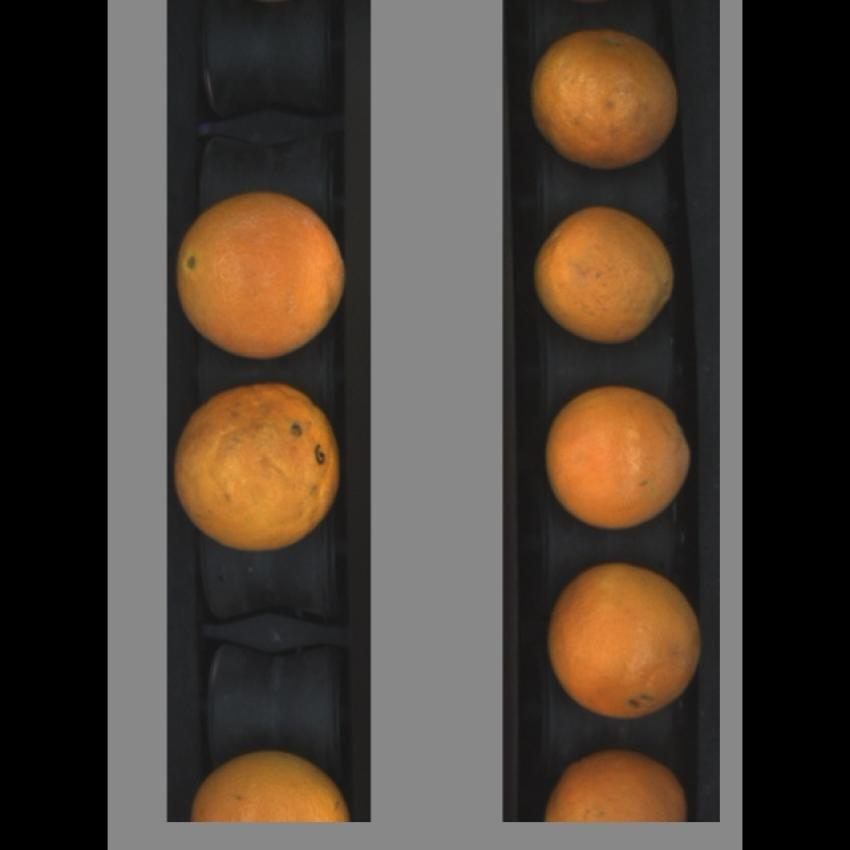Buen estado: (172, 186, 352, 365), (194, 742, 352, 824)
Mal estado: (176, 382, 346, 550), (544, 556, 708, 723), (526, 26, 692, 178), (541, 389, 703, 531), (531, 205, 682, 356), (541, 746, 692, 824)
